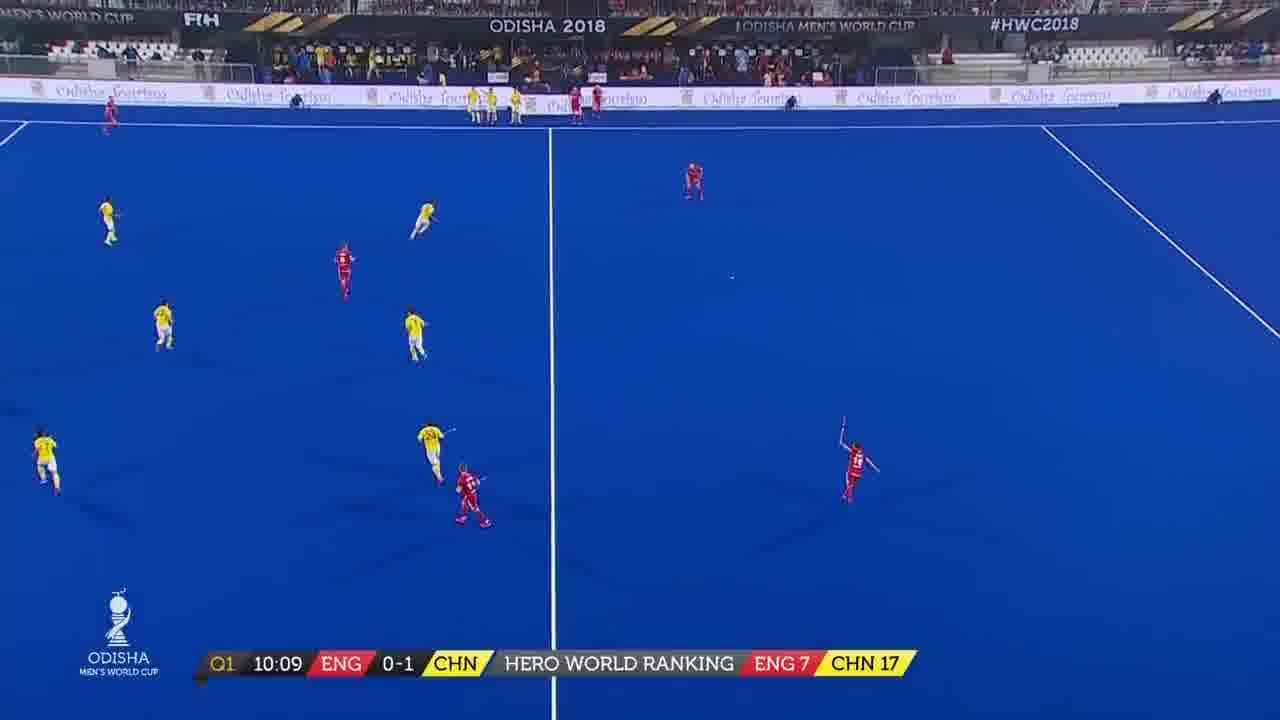ball: (729, 274, 742, 284)
